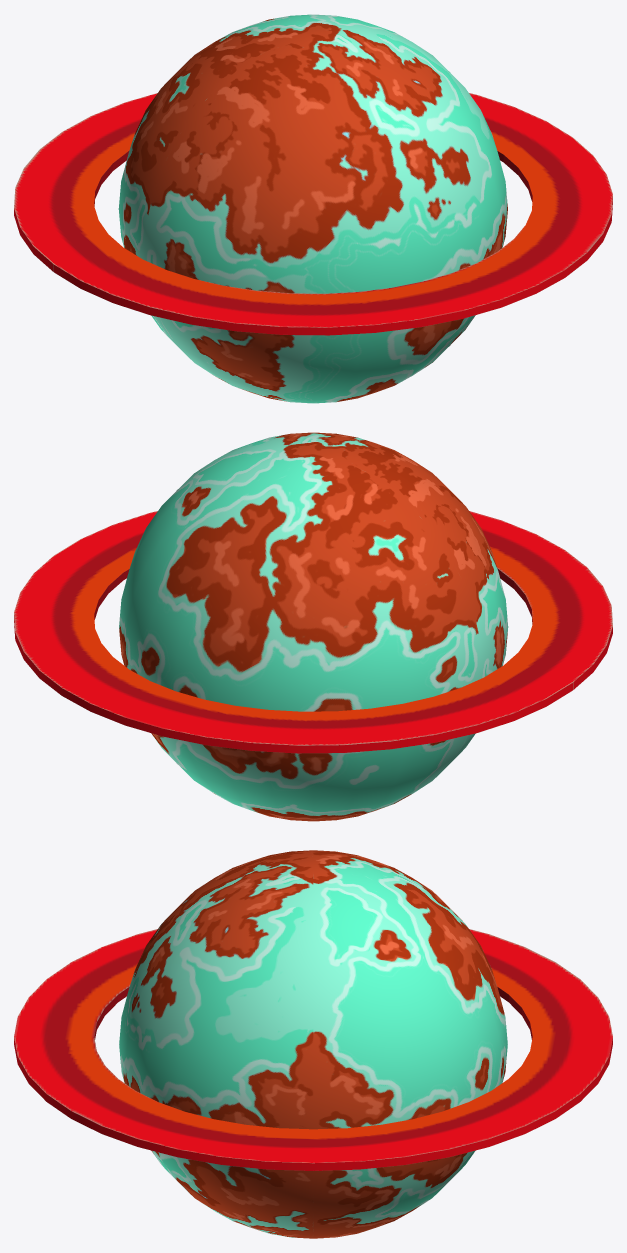
Rendered from Planet_Ring.fbx.
3 renders of one model, top to bottom at view 1: azimuth 30°, elevation 25°; view 2: azimuth 150°, elevation 25°; view 3: azimuth 270°, elevation 25°, orthographic.
Parts seen in each view (by area): view 1: Ring_Planet, Planet_Ring; view 2: Ring_Planet, Planet_Ring; view 3: Ring_Planet, Planet_Ring.
Part boxes in pixels (x1,y1,x2,y2): Ring_Planet: (118, 14, 507, 403); Planet_Ring: (14, 93, 612, 335); Ring_Planet: (119, 432, 508, 821); Planet_Ring: (14, 511, 612, 753); Ring_Planet: (119, 850, 507, 1238); Planet_Ring: (14, 929, 612, 1170).
Bounding box in the file's own units: 9 × 5.84 × 9.
1 material, 1 textured.
